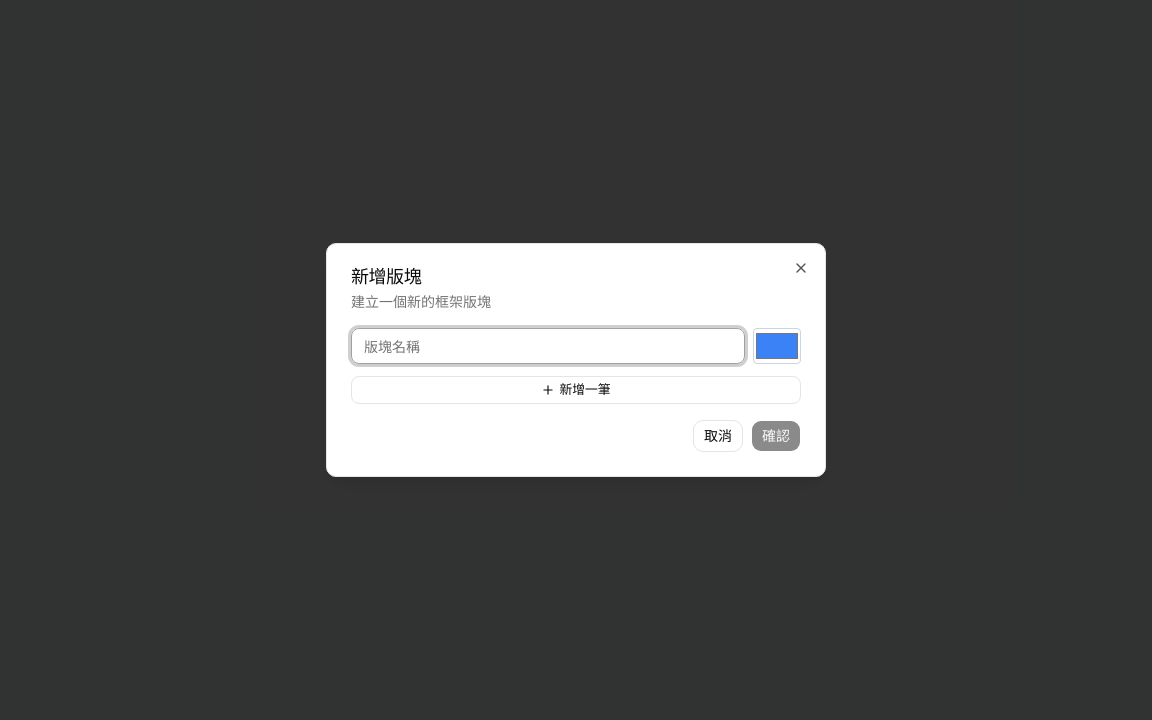
it: CategoryDialog › Add Mode › enables submit button when at least one row has a title
Type "React" into the field with placeholder "版塊名稱".
click(548, 346); type("React")  # box left=351, top=328, right=745, bottom=364
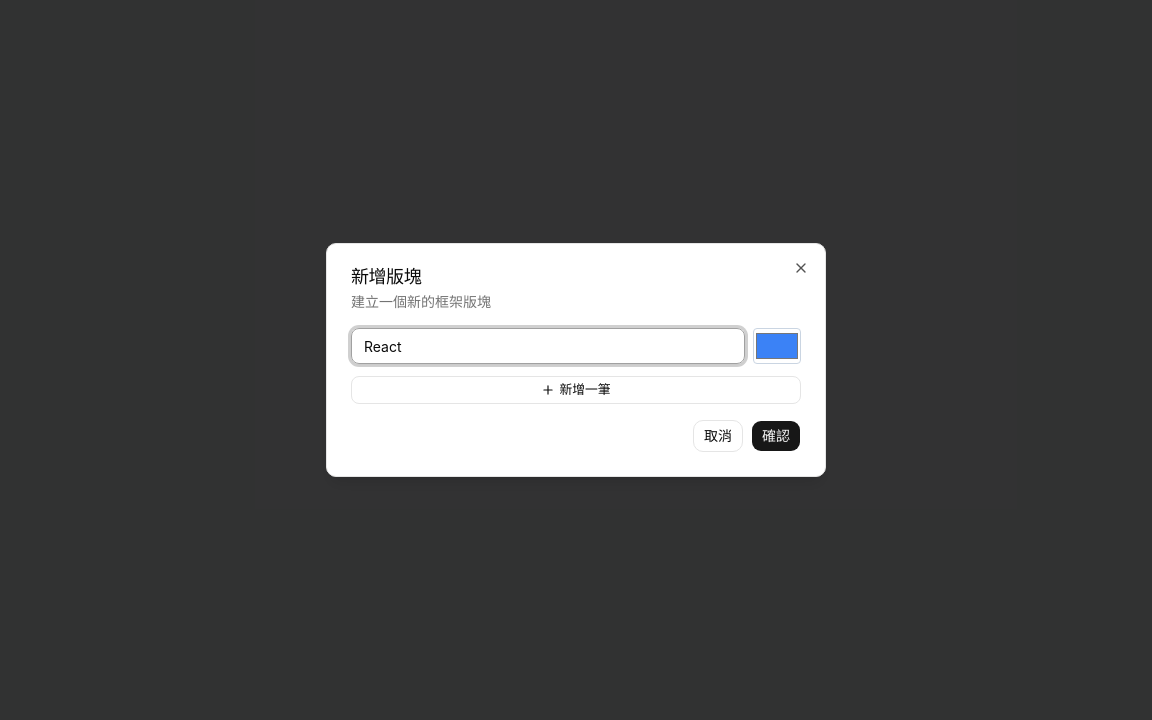
Expected: the button "確認" is enabled, left=751, top=420, right=801, bottom=452
